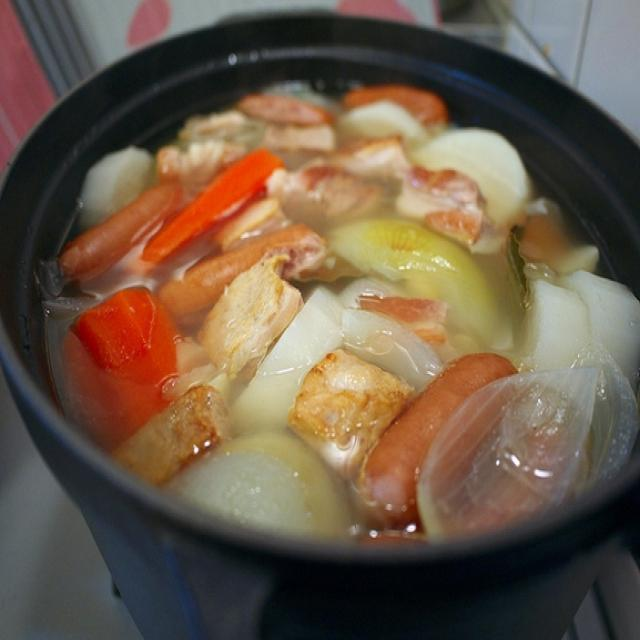汤锅炖物: (41, 58, 636, 551)
